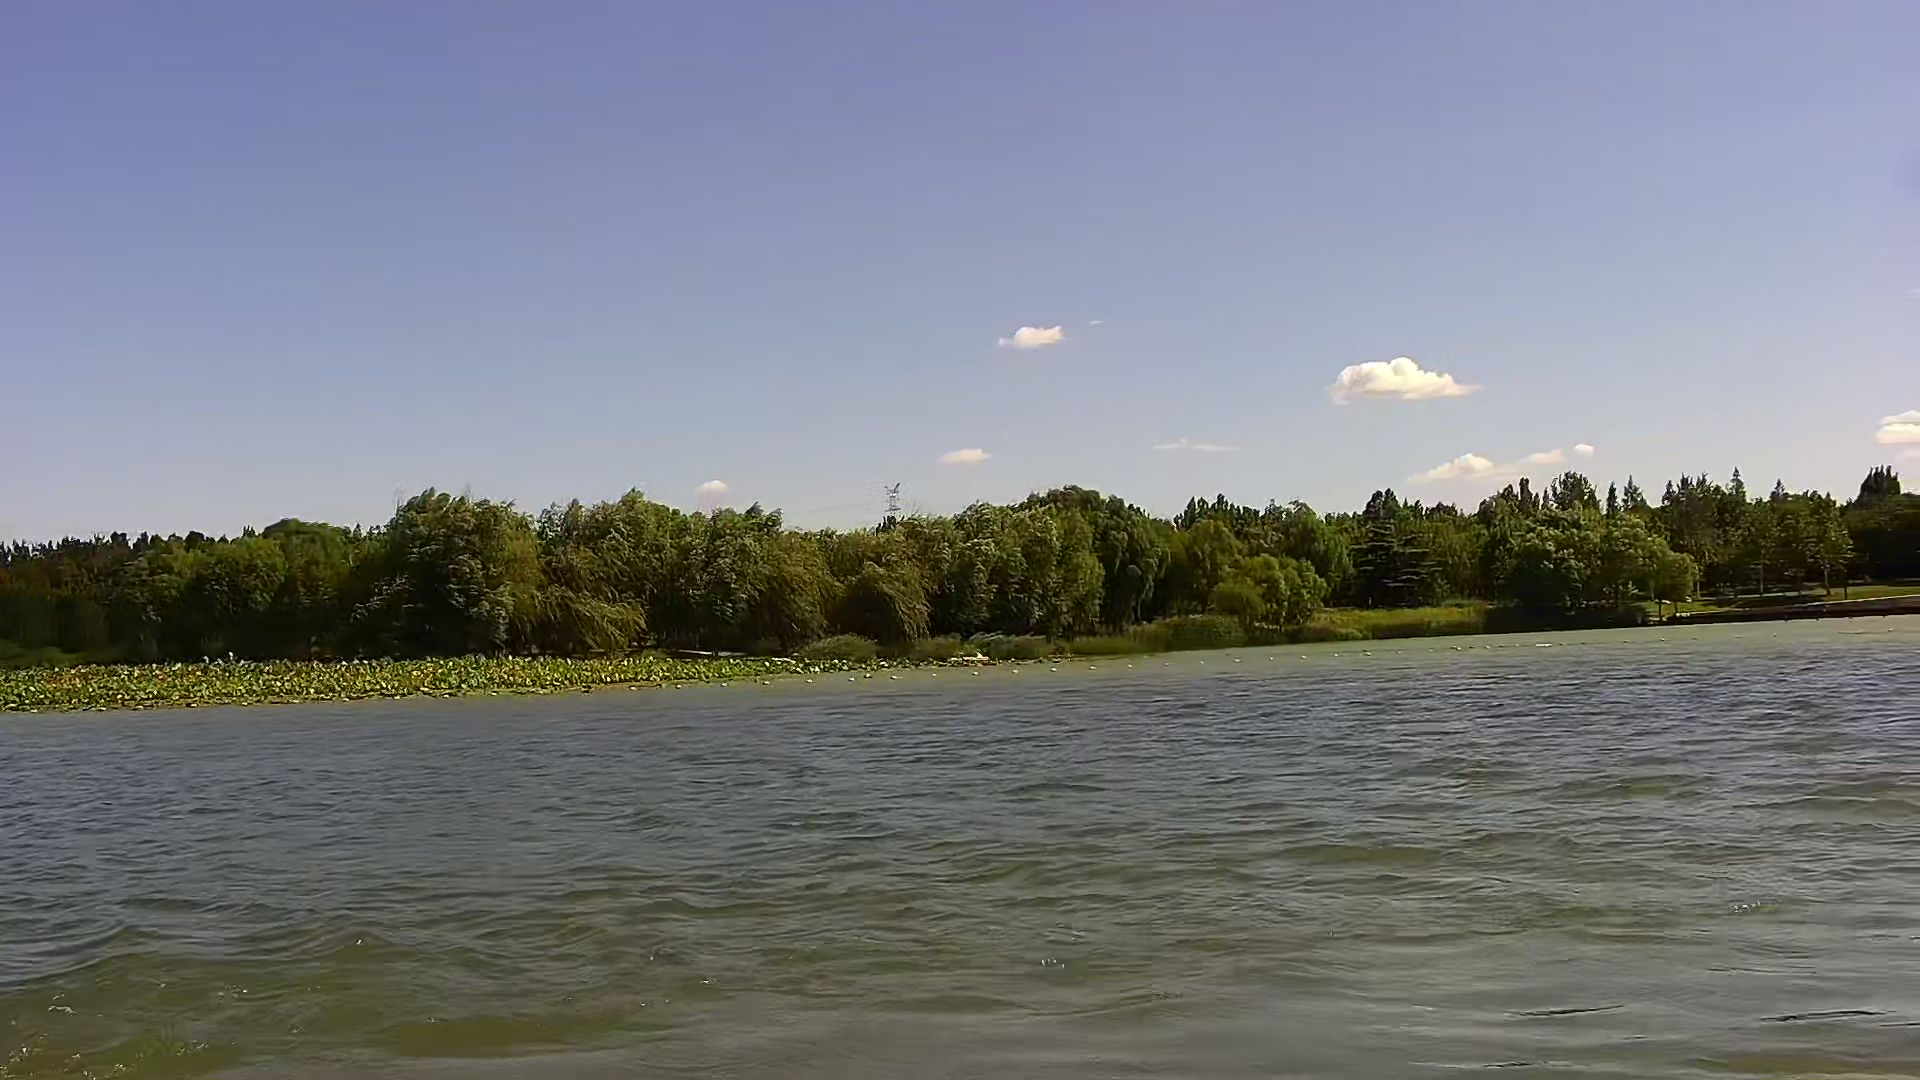grass: (3, 651, 938, 709)
